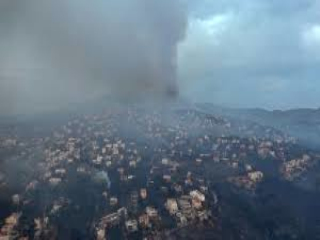smoke: (138, 2, 201, 119)
